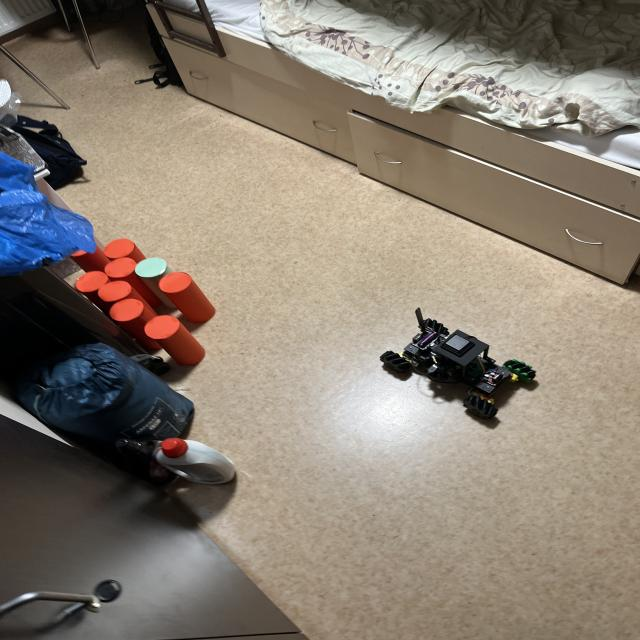robot: (380, 308, 535, 419)
